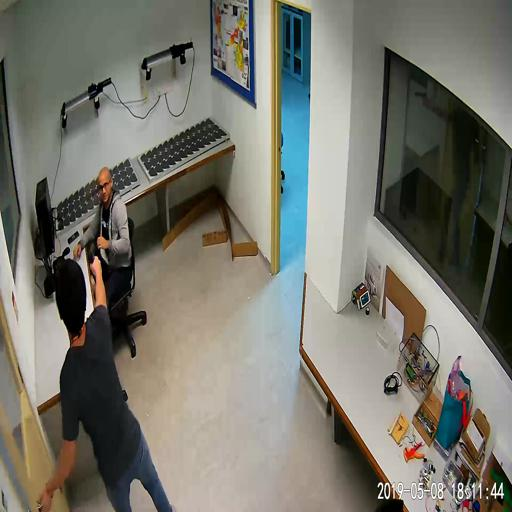pistol: (88, 242, 100, 274)
